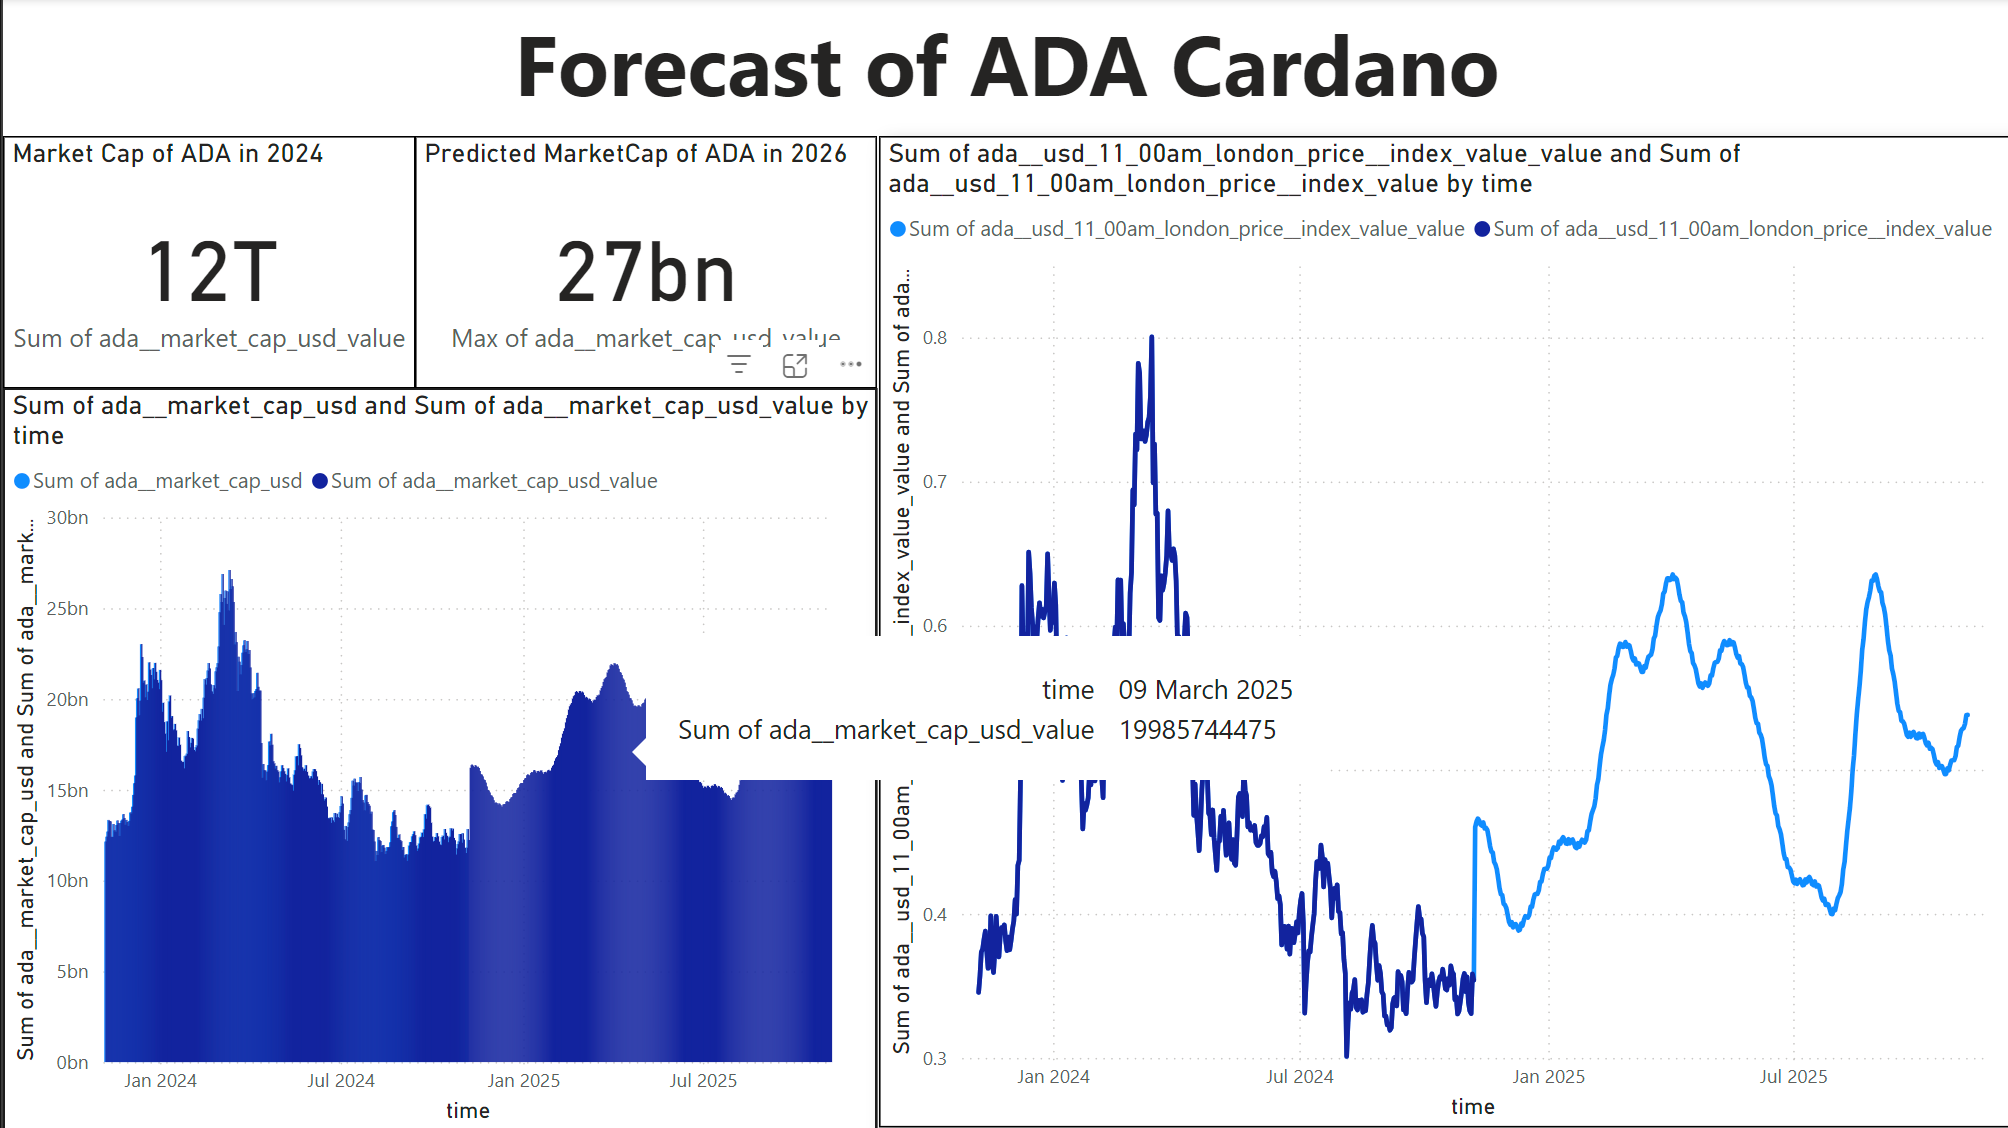

This screenshot's page, from the dashboard's own definition file:
{"tool":"powerbi","page":{"name":"ADA","canvas":[1280,720],"ordinal":2},"visuals":[{"type":"card","title":"Market Cap of ADA in 2024","fields":{"Values":["Sum(prophet_historical_and_next_year.ada__market_cap_usd_value)"]},"box":[0,87.7,263.1,160.8],"z":0},{"type":"card","title":"Predicted MarketCap of ADA in 2026","fields":{"Values":["Max(prophet_historical_and_next_year.ada__market_cap_usd_value)"]},"box":[263.1,87.7,294.4,160.8],"z":1000},{"type":"textbox","box":[0,0,1280,87.7],"z":2000},{"type":"clusteredColumnChart","fields":{"Category":["prophet_historical_and_next_year.time"],"Y":["Sum(cleaned_dataset.ada__market_cap_usd)","Sum(prophet_historical_and_next_year.ada__market_cap_usd_value)"]},"box":[0,248.5,557.5,474],"z":3000},{"type":"lineChart","fields":{"Category":["prophet_historical_and_next_year.time"],"Y":["Sum(prophet_historical_and_next_year.ada__usd_11_00am_london_price__index_value_value)","Sum(cleaned_dataset.ada__usd_11_00am_london_price__index_value)"]},"box":[558,88,722,632],"z":4000}]}

Visuals, with their boxes in screenshot pixels (x1, y1, x2, y2), scaled from the page's 1280x720 canvas onto the 2008x1128 screenshot:
"Market Cap of ADA in 2024" card: {"x1": 0, "y1": 137, "x2": 413, "y2": 389}
"Predicted MarketCap of ADA in 2026" card: {"x1": 413, "y1": 137, "x2": 875, "y2": 389}
textbox: {"x1": 0, "y1": 0, "x2": 2007, "y2": 137}
clusteredColumnChart - prophet_historical_and_next_year.time x Sum(cleaned_dataset.ada__market_cap_usd): {"x1": 0, "y1": 389, "x2": 875, "y2": 1127}
lineChart - prophet_historical_and_next_year.time x Sum(prophet_historical_and_next_year.ada__usd_11_00am_london_price__index_value_value): {"x1": 875, "y1": 138, "x2": 2007, "y2": 1127}
